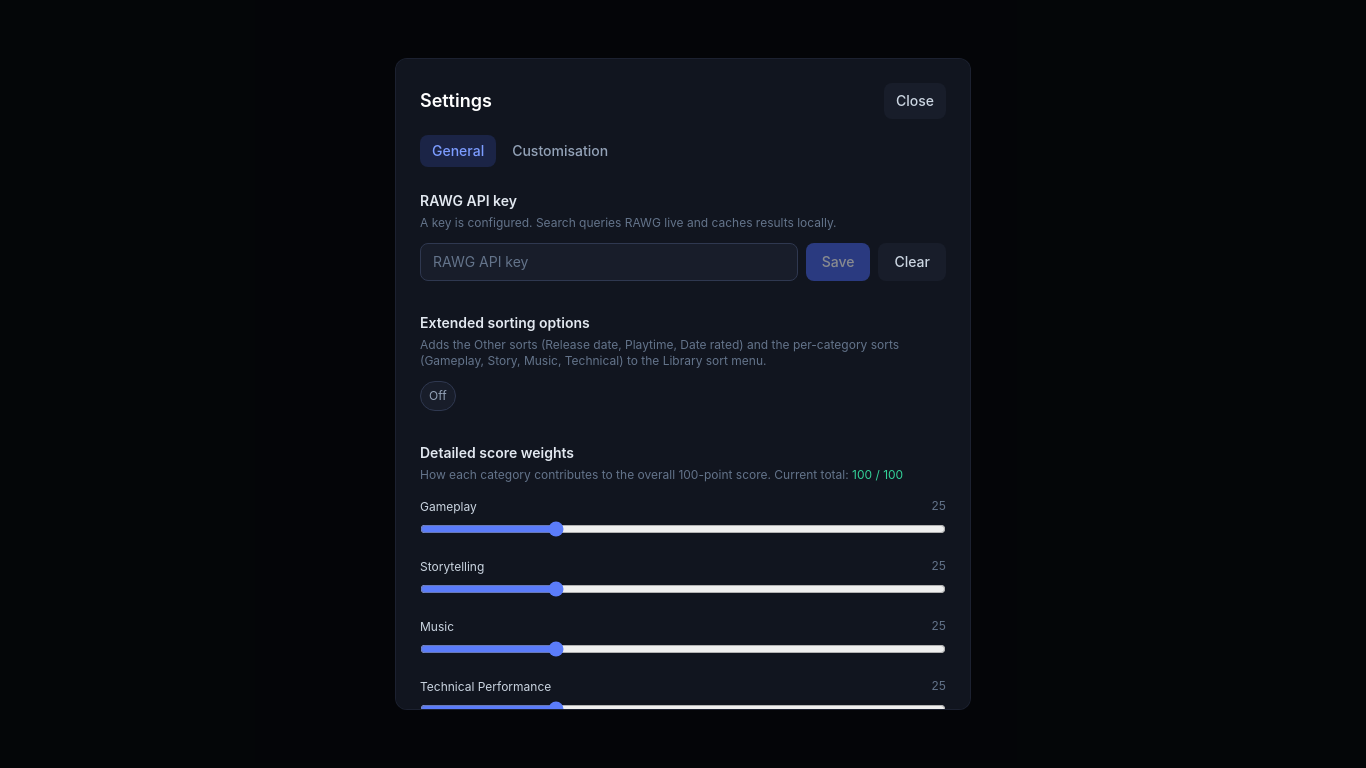
General tab — weights › saves weights and refreshes the profile
The width and height of the screenshot is (1366, 768).
Set the 1st slider to "20" at (530, 529), box [420,521,946,537]
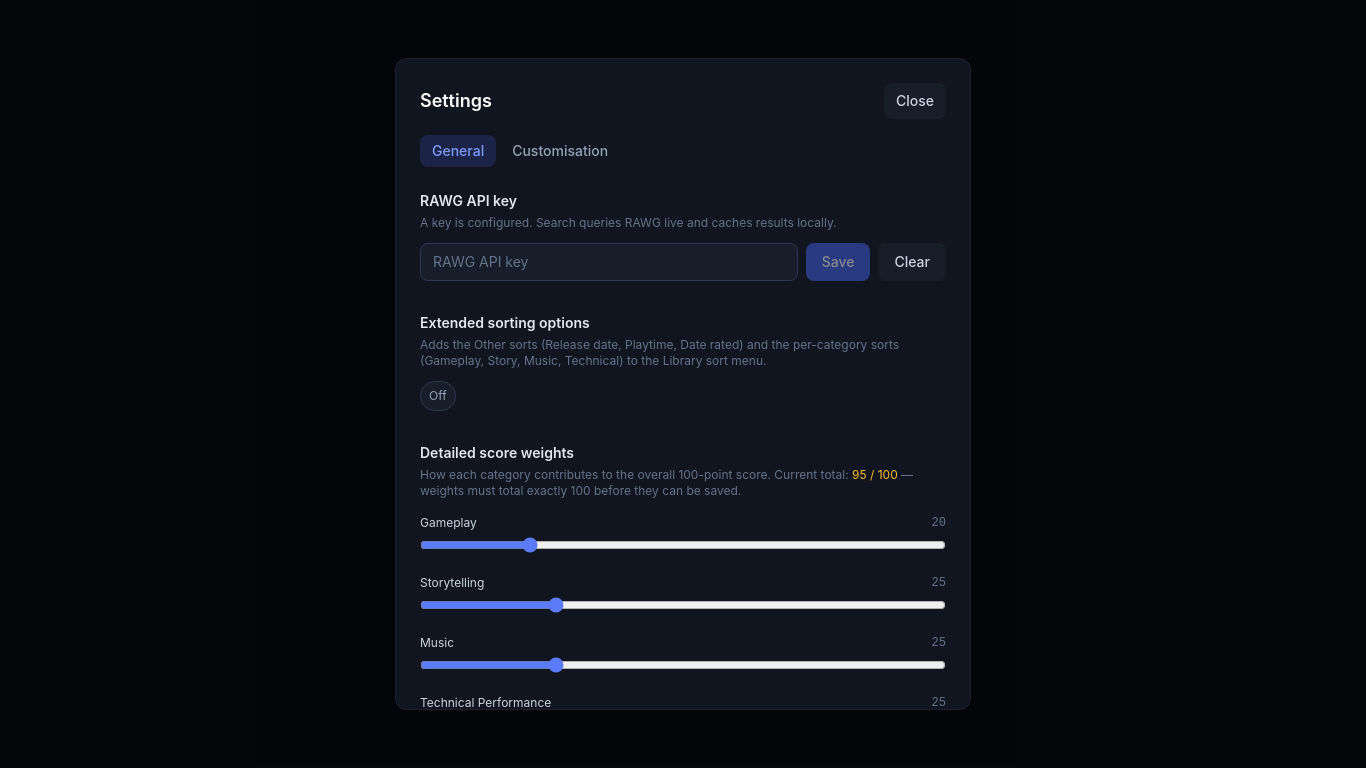
Set the slider below "Storytelling" to "30" at (581, 605), box [420,597,946,613]
(page scrolled)
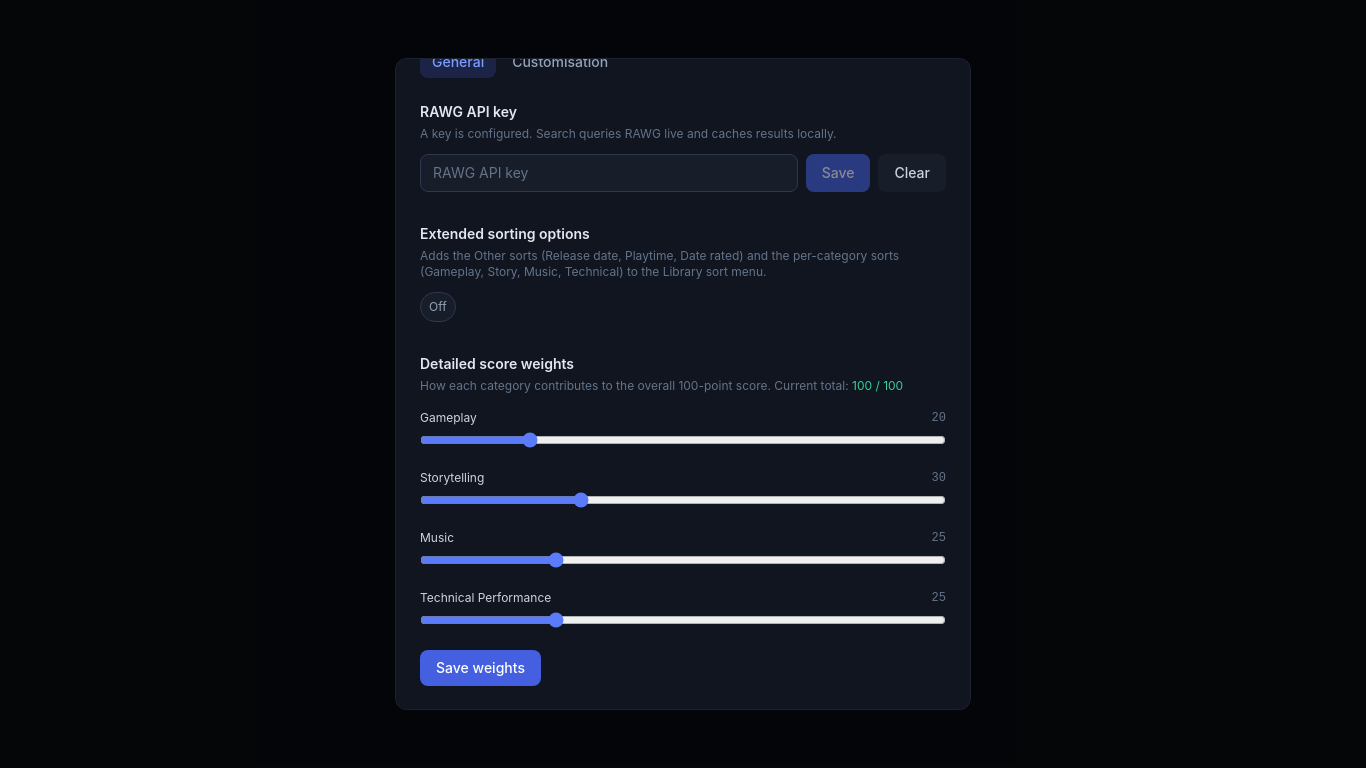
Click the button "Save weights".
click(480, 668)  # box [420,650,541,686]
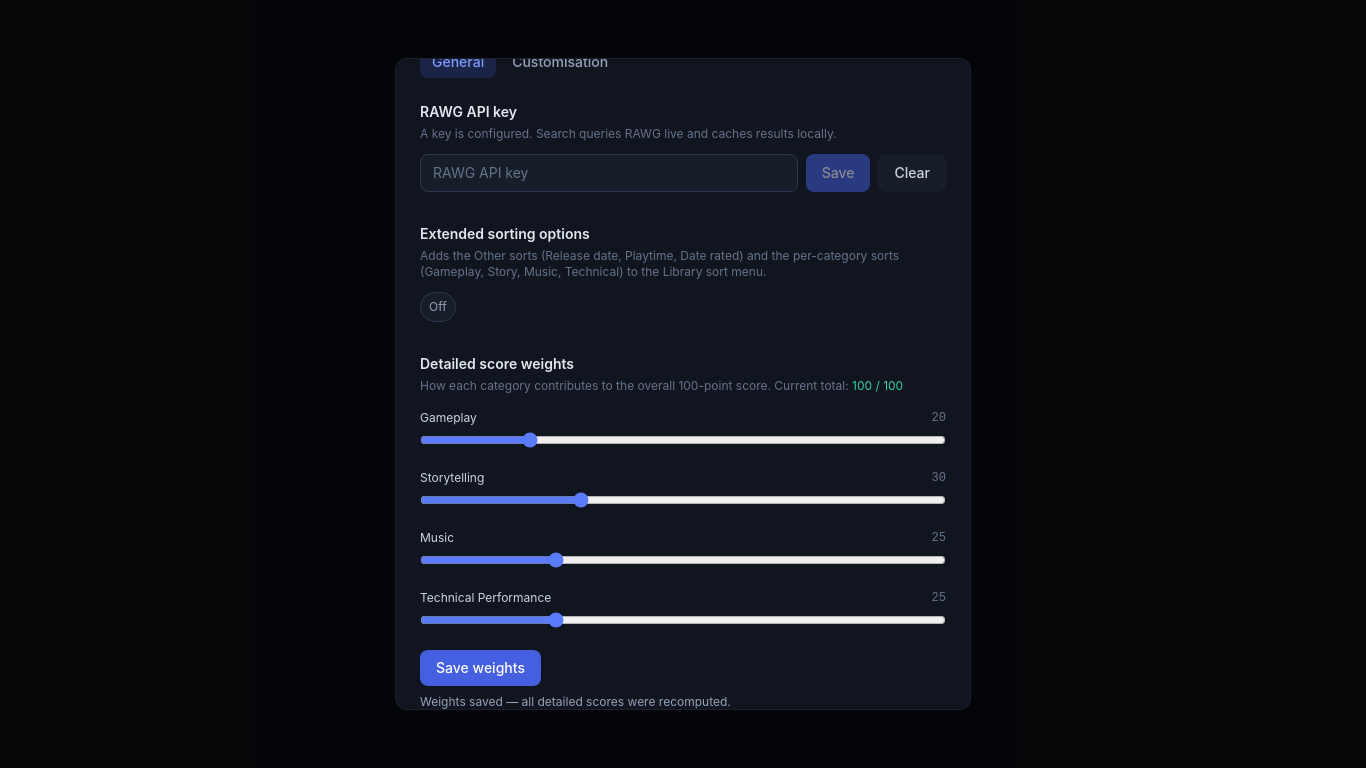
Now the text "Weights saved — all detailed scores were recomputed." is shown, box [420,694,731,709]
